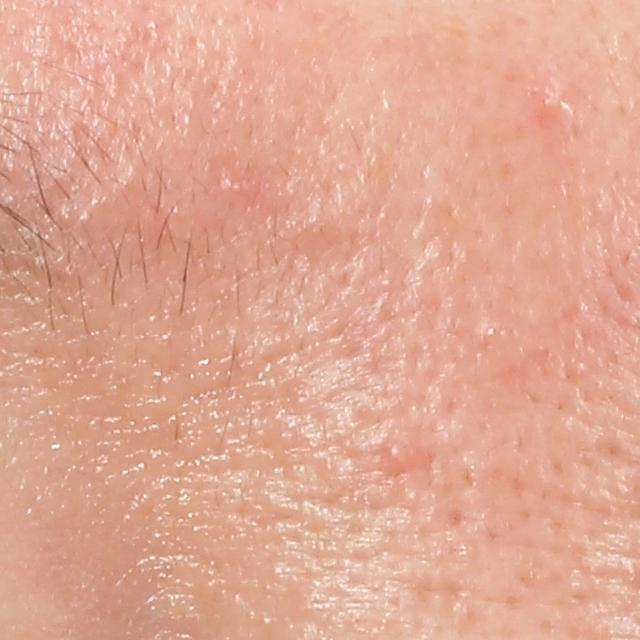papule: (525, 68, 586, 137)
